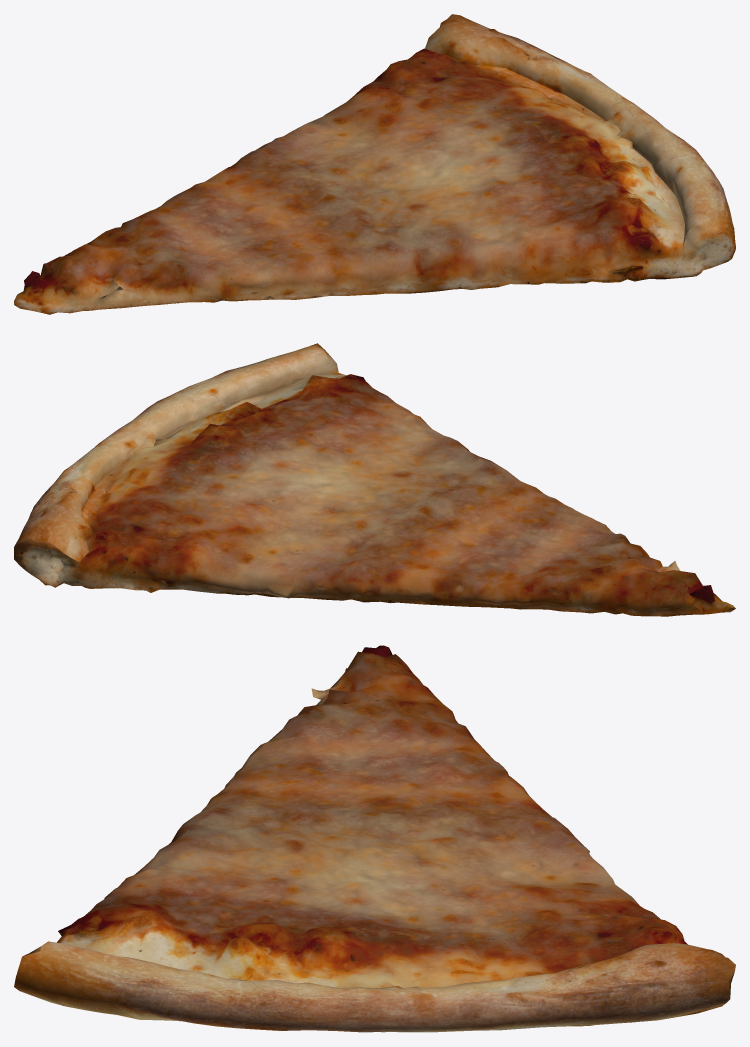
Rendered from pizza.glb.
3 views of the same model, one above another, from view 1: azimuth 30°, elevation 25°; view 2: azimuth 150°, elevation 25°; view 3: azimuth 270°, elevation 25° (orthographic). The views are drawn at different scales.
Visible parts, largest first — view 1: Object_2; view 2: Object_2; view 3: Object_2.
Boxes of the visible parts, bbox=[...] form: Object_2: bbox=[14, 14, 735, 314]; Object_2: bbox=[14, 343, 735, 616]; Object_2: bbox=[14, 645, 735, 1032].
Bounding box in the file's own units: 0.242 × 0.0208 × 0.1907.
Materials: 1 (1 with a texture image).
